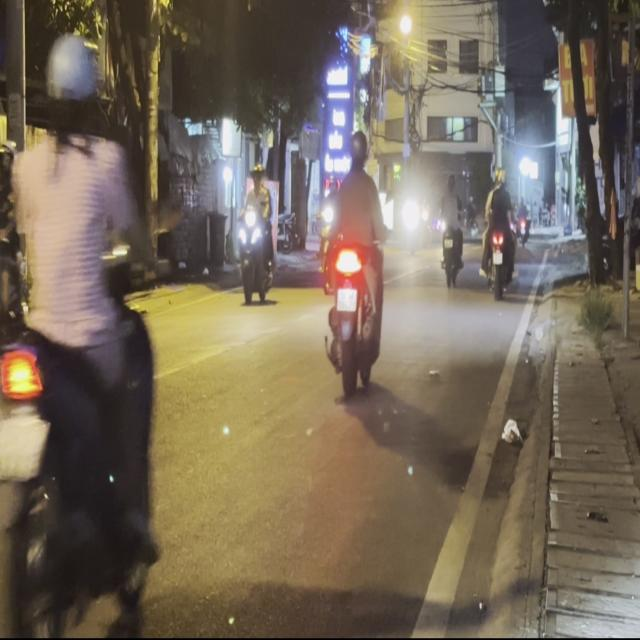helmet: (42, 32, 102, 142), (347, 128, 368, 168)
licenseplate: (0, 31, 167, 630), (321, 126, 388, 394)
nohelmet: (0, 415, 47, 476), (336, 287, 356, 310)
